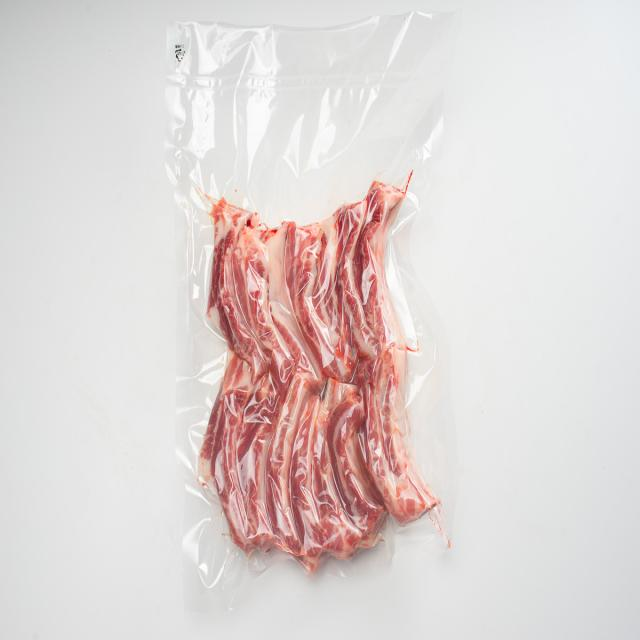pork: (190, 135, 429, 580)
